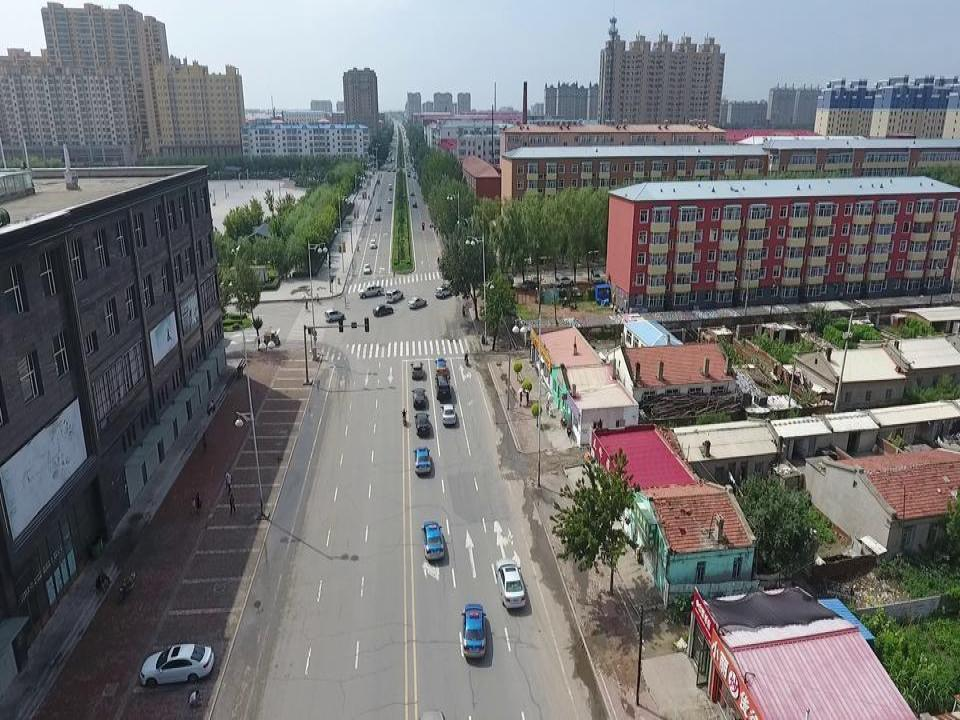car: (139, 644, 216, 685), (493, 556, 527, 609), (458, 601, 487, 663), (421, 519, 445, 560), (412, 445, 431, 475), (438, 401, 457, 427), (434, 373, 452, 399), (414, 411, 431, 436), (412, 385, 426, 408), (410, 359, 424, 380), (372, 303, 394, 316), (435, 284, 455, 297), (407, 295, 426, 308), (385, 288, 403, 301), (554, 276, 573, 287), (324, 311, 344, 321), (436, 356, 447, 372), (521, 279, 536, 289), (592, 272, 601, 284), (363, 262, 371, 274), (369, 238, 377, 250), (374, 212, 380, 221), (411, 200, 417, 208), (409, 189, 415, 196), (386, 197, 392, 203), (376, 204, 381, 211)
truck: (359, 284, 383, 296)
van: (388, 184, 392, 189)
